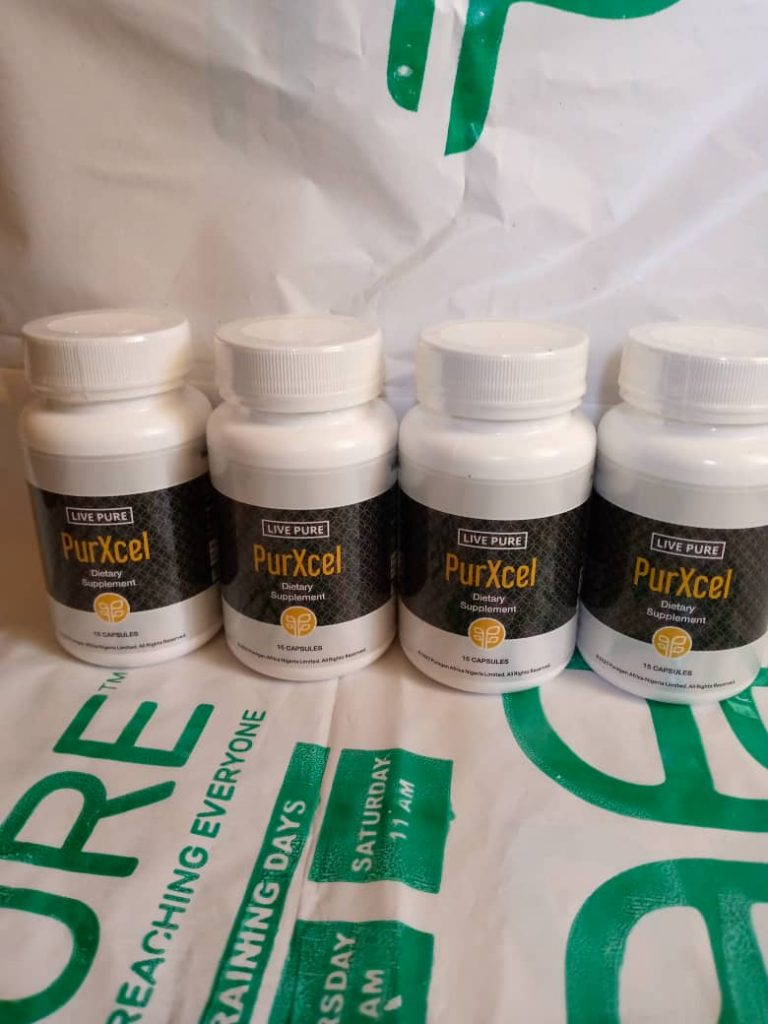Medicine: (10, 292, 213, 680), (200, 310, 405, 682), (410, 315, 590, 702), (598, 325, 768, 708)
